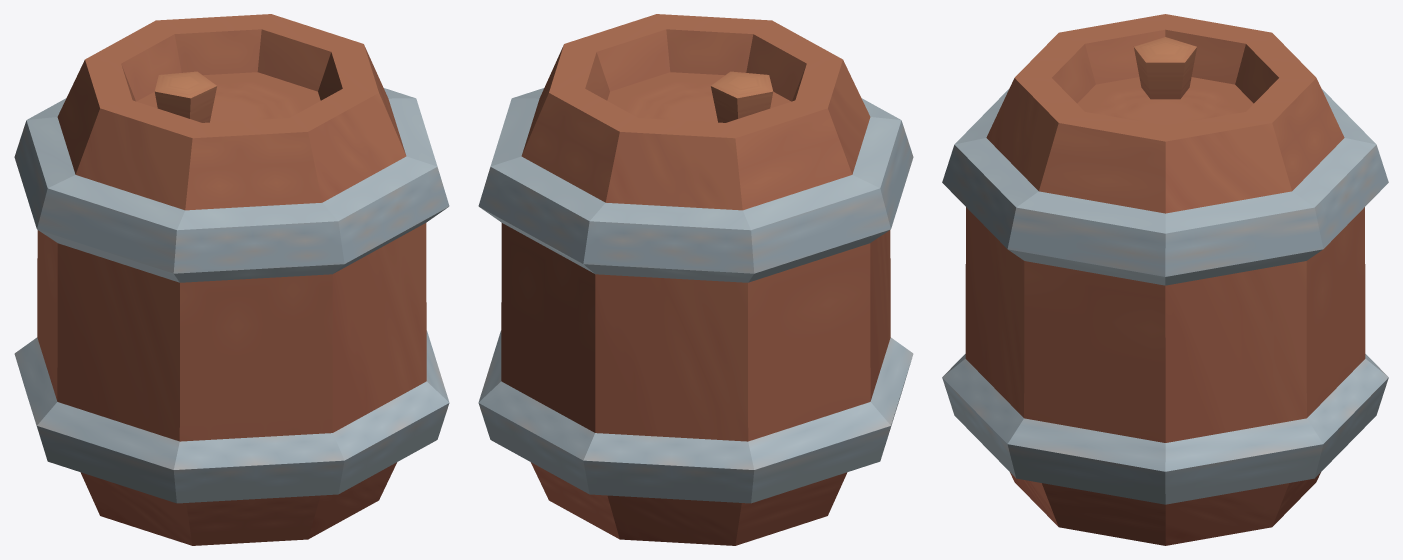
File: barrel_small.glb
3 views of the same model, side by side, from view 1: azimuth 30°, elevation 25°; view 2: azimuth 150°, elevation 25°; view 3: azimuth 270°, elevation 25° (orthographic).
Parts seen in each view (by area): view 1: barrel_small; view 2: barrel_small; view 3: barrel_small.
Part boxes in pixels (bbox=[...]): barrel_small: bbox=[14, 14, 449, 545]; barrel_small: bbox=[478, 14, 913, 545]; barrel_small: bbox=[942, 14, 1388, 545].
Size of the model in its own units: 1 by 1.02 by 1.
Materials: 1 (1 with a texture image).
